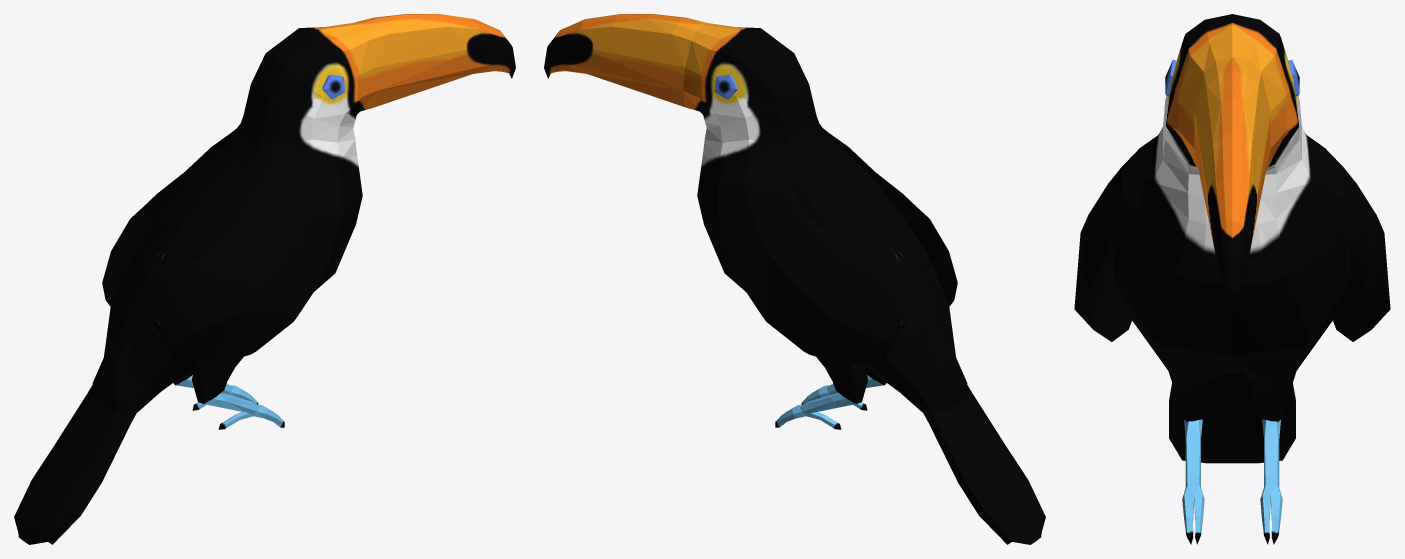
Rendered from Tucan.fbx.
The picture shows the model from 3 angles, left to right: view 1: azimuth 30°, elevation 25°; view 2: azimuth 150°, elevation 25°; view 3: azimuth 270°, elevation 25°; orthographic projection. The views are drawn at different scales.
Visible parts, largest first — view 1: Tucan; view 2: Tucan; view 3: Tucan.
Part boxes in pixels (box(x1,y1,x2,y2)): Tucan: box(14, 14, 515, 544); Tucan: box(544, 14, 1045, 544); Tucan: box(1074, 14, 1390, 544).
Size of the model in its own units: 70.07 by 60.03 by 26.37.
Materials: 1 (1 with a texture image).
